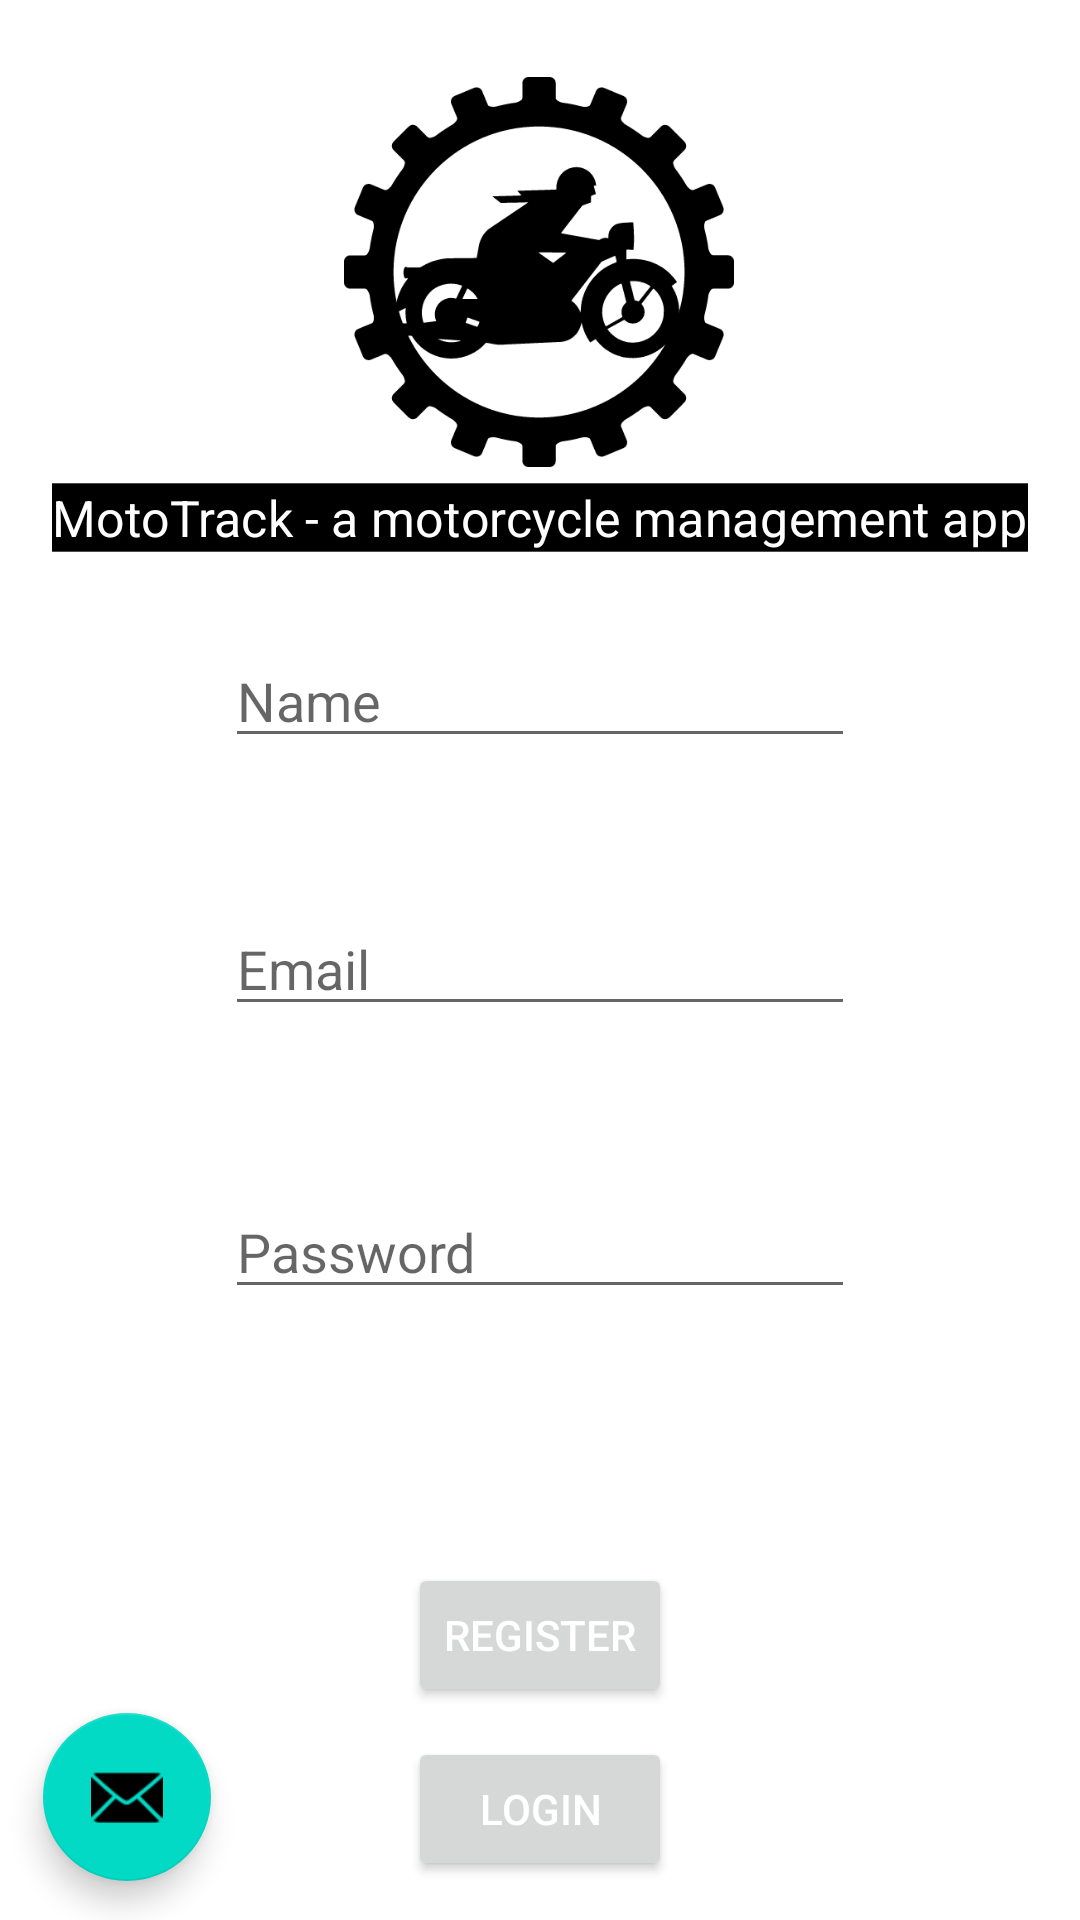

Icon click points for this 1080x1920 phone screenshot, format (x=x, y=y):
email: (x=127, y=1797)
